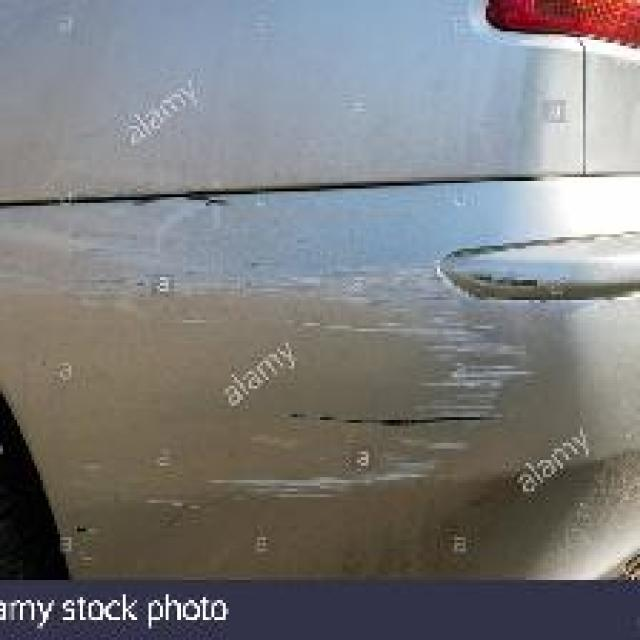bumper_scratch_moderate: (177, 286, 497, 486)
